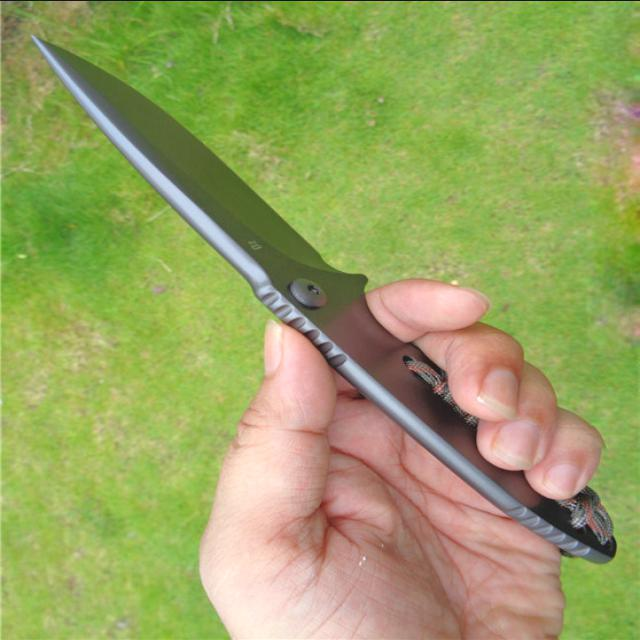knife: (23, 24, 626, 574)
